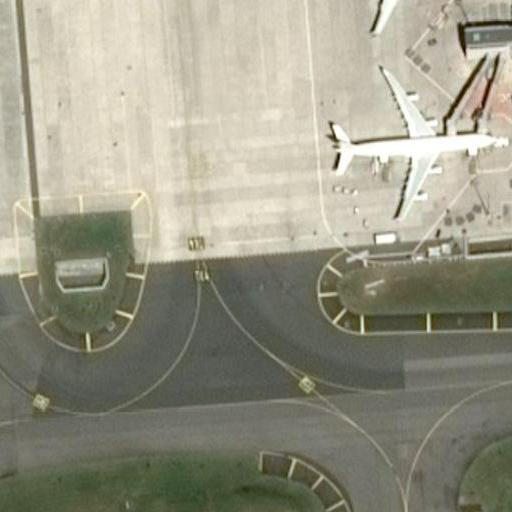Aircraft: (318, 64, 504, 209), (303, 0, 477, 33)
